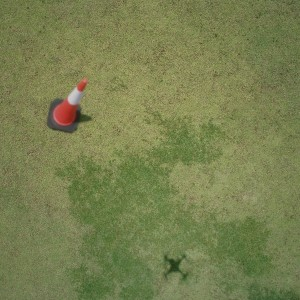traffic cone: (46, 78, 86, 131)
